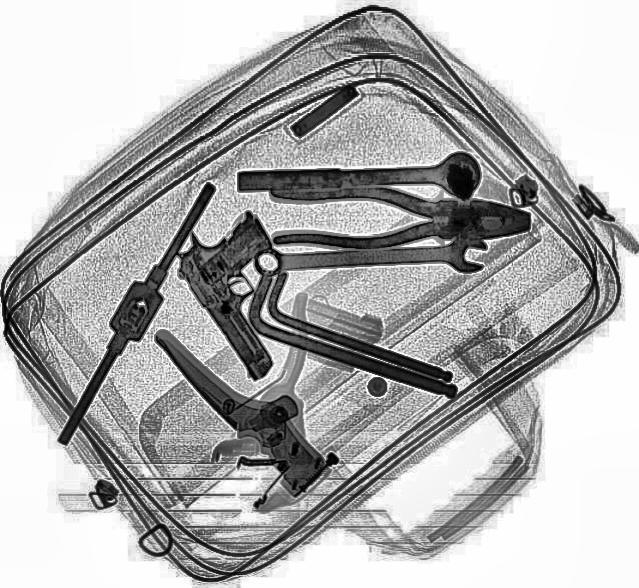Gun: (158, 203, 340, 381)
Pliers: (264, 179, 532, 254)
Wrench: (252, 230, 488, 282)
